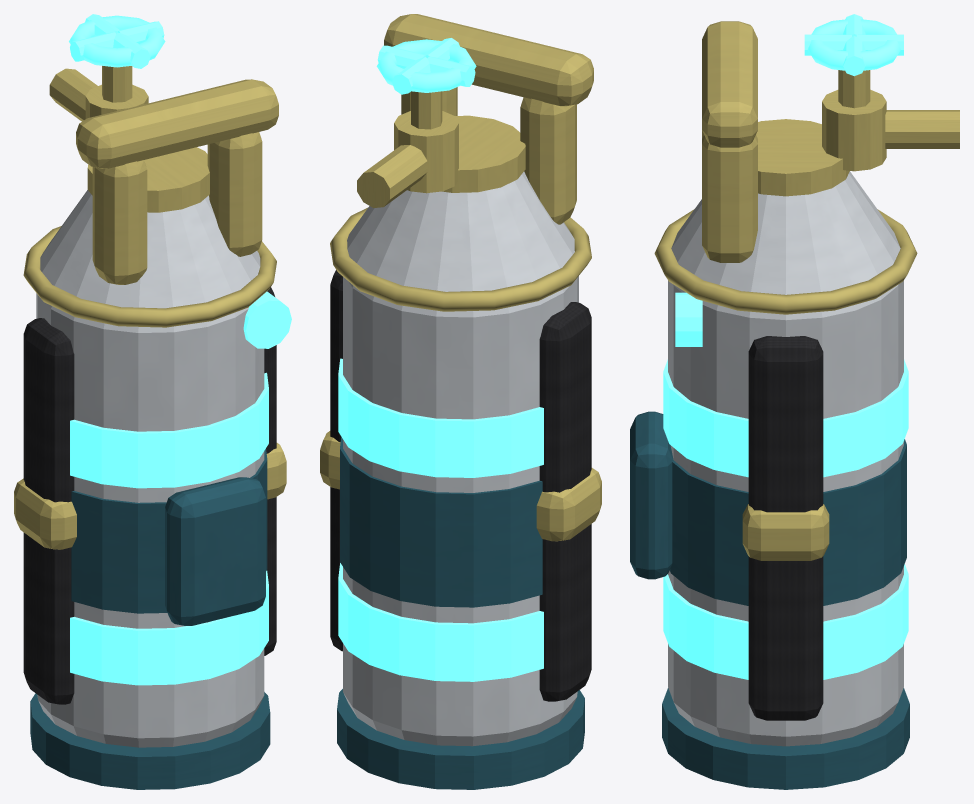
File: pickup_o2_tank.glb
The picture shows the model from 3 angles, left to right: view 1: azimuth 30°, elevation 25°; view 2: azimuth 150°, elevation 25°; view 3: azimuth 270°, elevation 25°; orthographic projection. The views are drawn at different scales.
Visible parts, largest first — view 1: pickup_o2_tank_body, pickup_o2_tank_harness_l, pickup_o2_tank_shoulder, pickup_o2_tank_stencil, pickup_o2_tank_band1, pickup_o2_tank_band0, pickup_o2_tank_base, pickup_o2_tank_label_wrap, pickup_o2_tank_handle_bar, pickup_o2_tank_handle_post_l, pickup_o2_tank_shoulder_band, pickup_o2_tank_handle_post_r (+12 smaller); view 2: pickup_o2_tank_body, pickup_o2_tank_label_wrap, pickup_o2_tank_shoulder, pickup_o2_tank_harness_l, pickup_o2_tank_band1, pickup_o2_tank_band0, pickup_o2_tank_base, pickup_o2_tank_handle_bar, pickup_o2_tank_shoulder_band, pickup_o2_tank_handle_post_l, pickup_o2_tank_top_ring, pickup_o2_tank_harness_r (+10 smaller); view 3: pickup_o2_tank_body, pickup_o2_tank_harness_r, pickup_o2_tank_label_wrap, pickup_o2_tank_shoulder, pickup_o2_tank_base, pickup_o2_tank_band1, pickup_o2_tank_band0, pickup_o2_tank_handle_bar, pickup_o2_tank_stencil, pickup_o2_tank_shoulder_band, pickup_o2_tank_handle_post_r, pickup_o2_tank_top_ring (+7 smaller).
Boxes of the visible parts, x1,y1,x2,y2 form: pickup_o2_tank_body: (36,293,264,747); pickup_o2_tank_harness_l: (23,318,74,704); pickup_o2_tank_shoulder: (40,190,260,308); pickup_o2_tank_stencil: (165,477,265,625); pickup_o2_tank_band1: (70,372,268,488); pickup_o2_tank_band0: (70,570,268,685); pickup_o2_tank_base: (30,692,270,789); pickup_o2_tank_label_wrap: (71,449,267,613); pickup_o2_tank_handle_bar: (76,79,278,168); pickup_o2_tank_handle_post_l: (92,160,147,284); pickup_o2_tank_shoulder_band: (23,226,276,327); pickup_o2_tank_handle_post_r: (207,132,262,256); pickup_o2_tank_body: (343,276,578,746); pickup_o2_tank_label_wrap: (340,437,542,607); pickup_o2_tank_shoulder: (347,171,574,291); pickup_o2_tank_harness_l: (539,302,591,701); pickup_o2_tank_band1: (338,358,543,477); pickup_o2_tank_band0: (338,563,543,681); pickup_o2_tank_base: (337,689,584,789); pickup_o2_tank_handle_bar: (384,14,593,106); pickup_o2_tank_shoulder_band: (330,207,591,311); pickup_o2_tank_handle_post_l: (520,97,576,224); pickup_o2_tank_top_ring: (442,115,525,192); pickup_o2_tank_harness_r: (330,270,342,651); pickup_o2_tank_body: (668,280,903,746); pickup_o2_tank_harness_r: (748,336,823,720); pickup_o2_tank_label_wrap: (669,439,906,605); pickup_o2_tank_shoulder: (671,171,900,294); pickup_o2_tank_base: (662,688,909,789); pickup_o2_tank_band1: (663,359,908,477); pickup_o2_tank_band0: (663,564,908,679); pickup_o2_tank_handle_bar: (702,21,757,147); pickup_o2_tank_stencil: (630,411,673,579); pickup_o2_tank_shoulder_band: (654,209,917,314); pickup_o2_tank_handle_post_r: (702,135,757,262); pickup_o2_tank_top_ring: (756,119,849,196).
Bounding box in the file's own units: 0.234 × 0.624 × 0.2655.
Materials: 5 (4 with a texture image).
